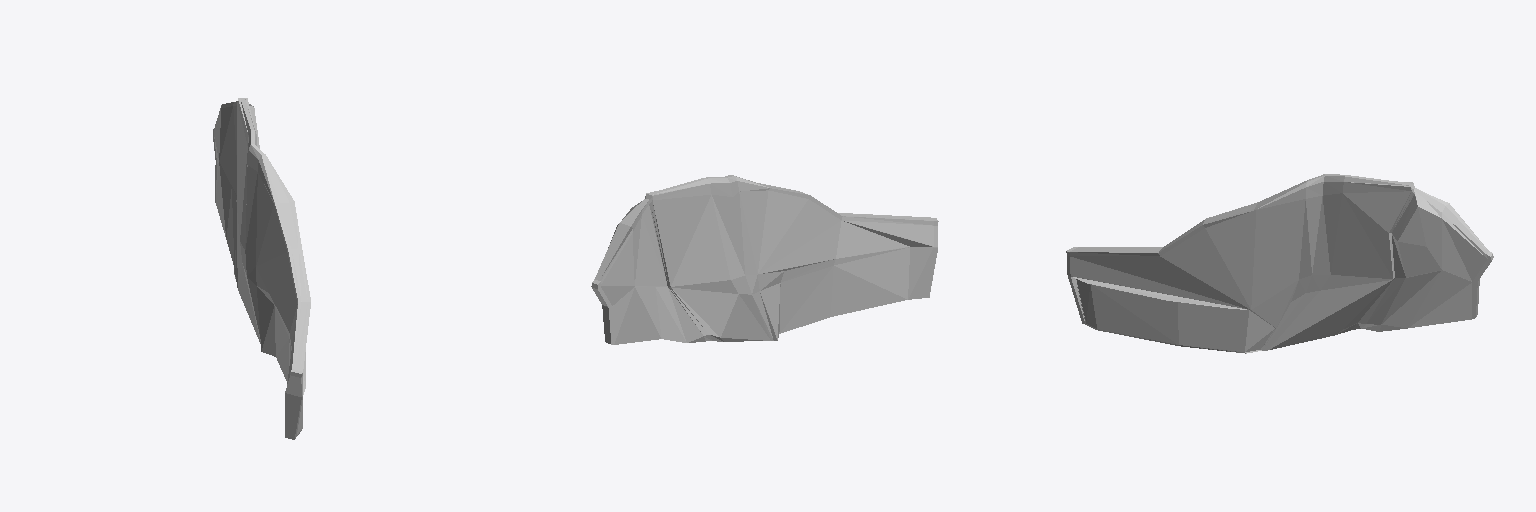
Rendered from soporte_1_v1.obj.
3 renders of one model, left to right at view 1: azimuth 30°, elevation 25°; view 2: azimuth 150°, elevation 25°; view 3: azimuth 270°, elevation 25°, orthographic.
Parts seen in each view (by area): view 1: pCube4; view 2: pCube4; view 3: pCube4.
Part boxes in pixels (x1,y1,x2,y2): pCube4: (213,98,310,439); pCube4: (591,175,938,344); pCube4: (1066,174,1493,353).
Bounding box in the file's own units: 2.69 × 3.52 × 7.03.